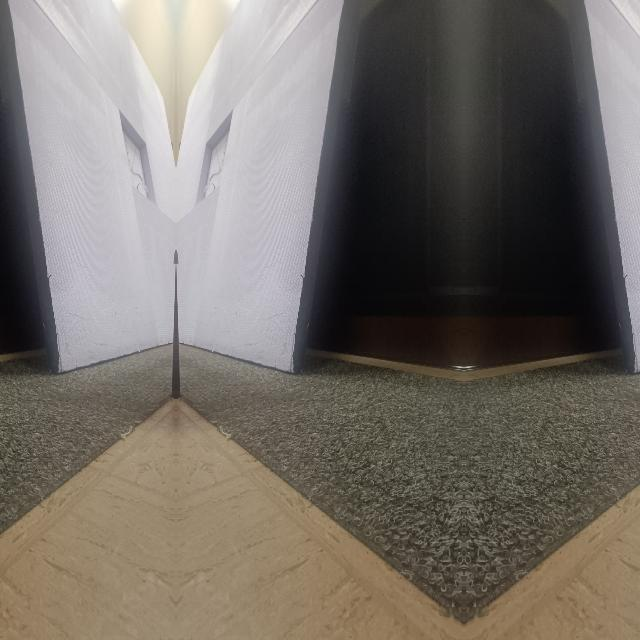obstacle: (186, 108, 324, 380), (27, 108, 164, 380), (603, 108, 640, 380)
